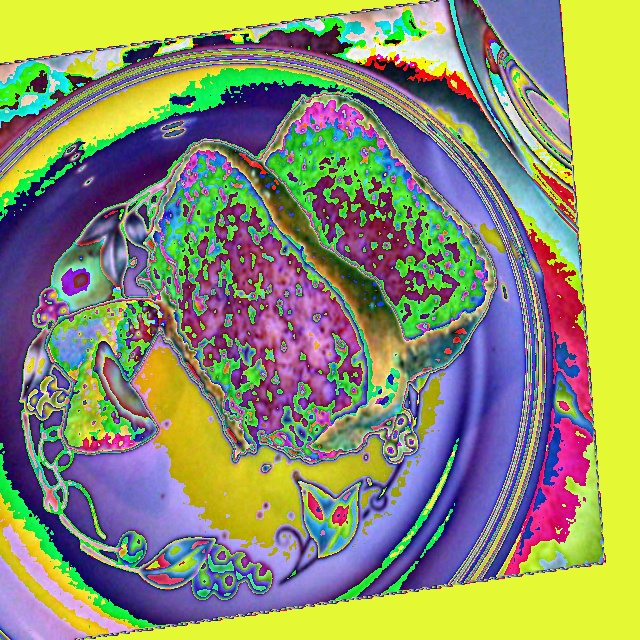background: (45, 93, 497, 463)
